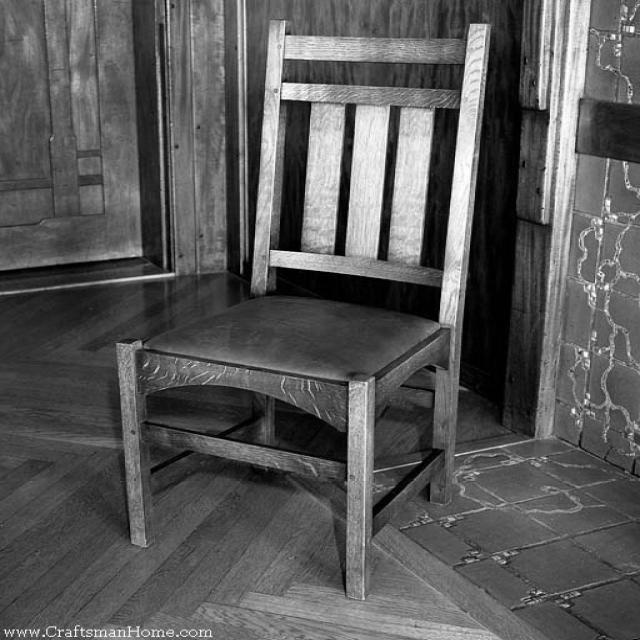chair: (111, 23, 494, 600)
